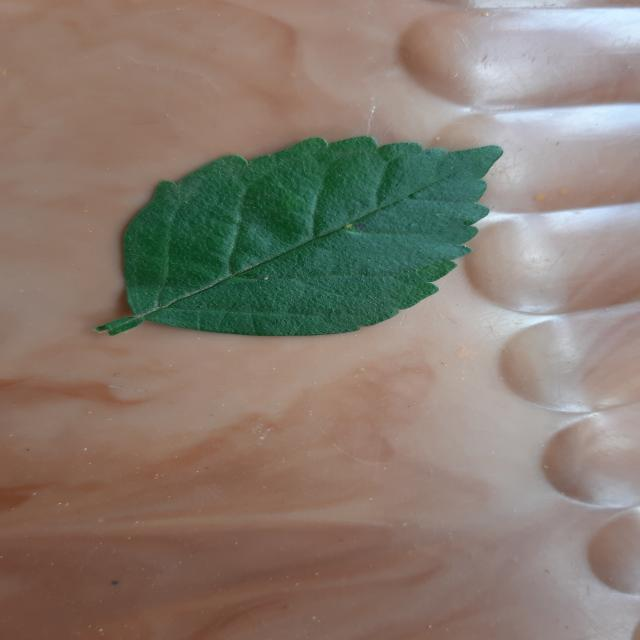tecoma: (96, 136, 502, 335)
